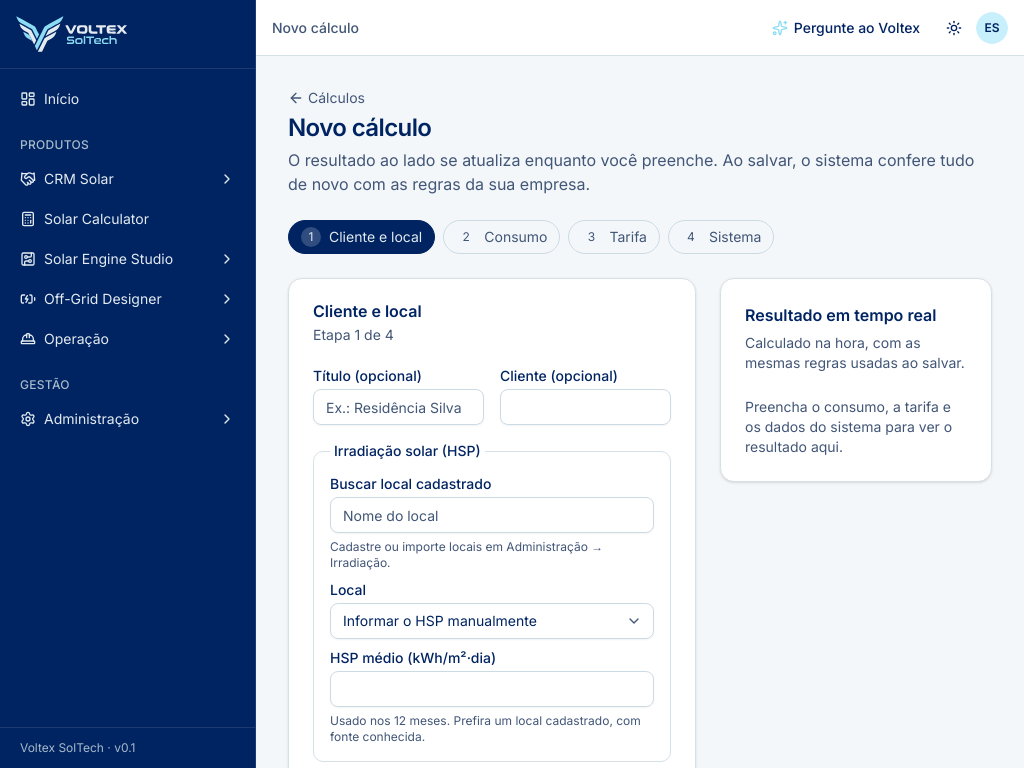
Test case: wizard de novo cálculo › o custo de disponibilidade vem da regra conforme o tipo de ligação
In the field labelled "HSP médio (kWh/m²·dia)": (492, 689) x1=330 y1=671 x2=654 y2=707, type "5"
(page scrolled)
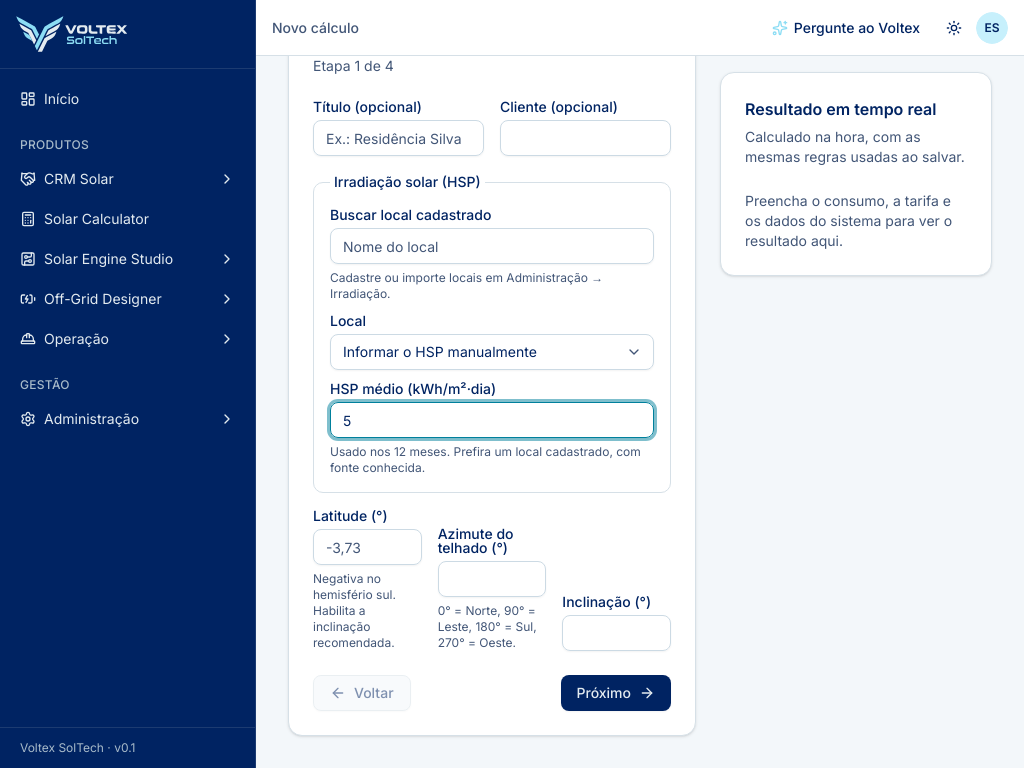
Click the button "Próximo": click(616, 693) x1=560 y1=675 x2=671 y2=711
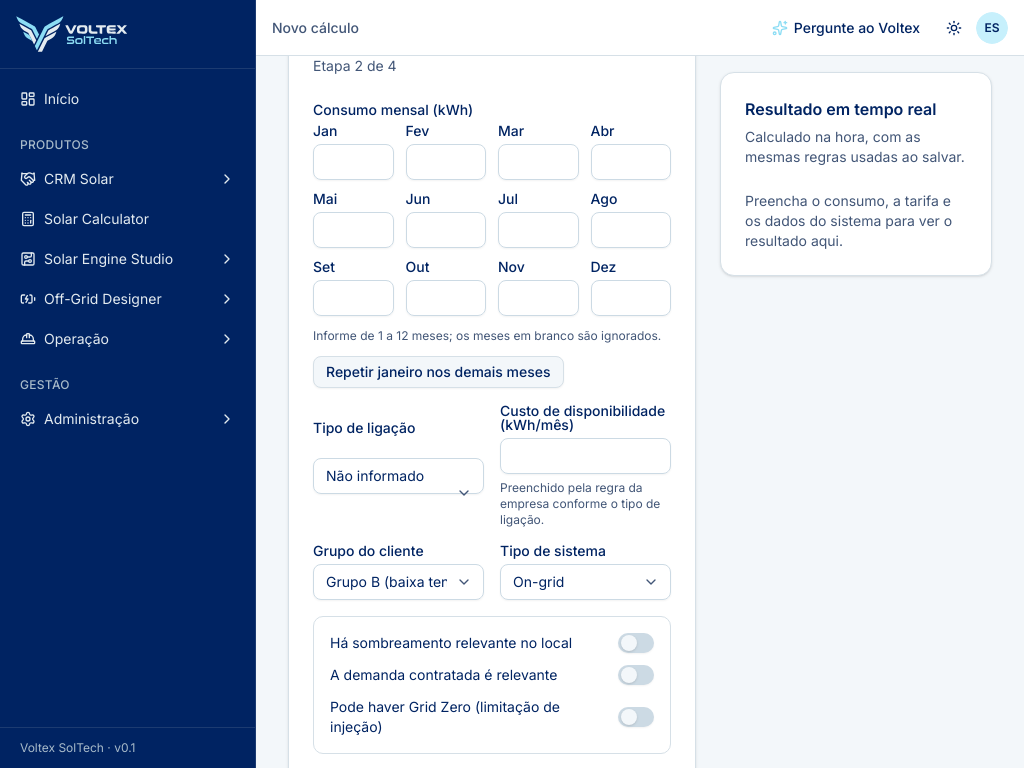
Select "Trifásico" in the dropdown labelled "Tipo de ligação": (398, 476) x1=313 y1=458 x2=484 y2=494
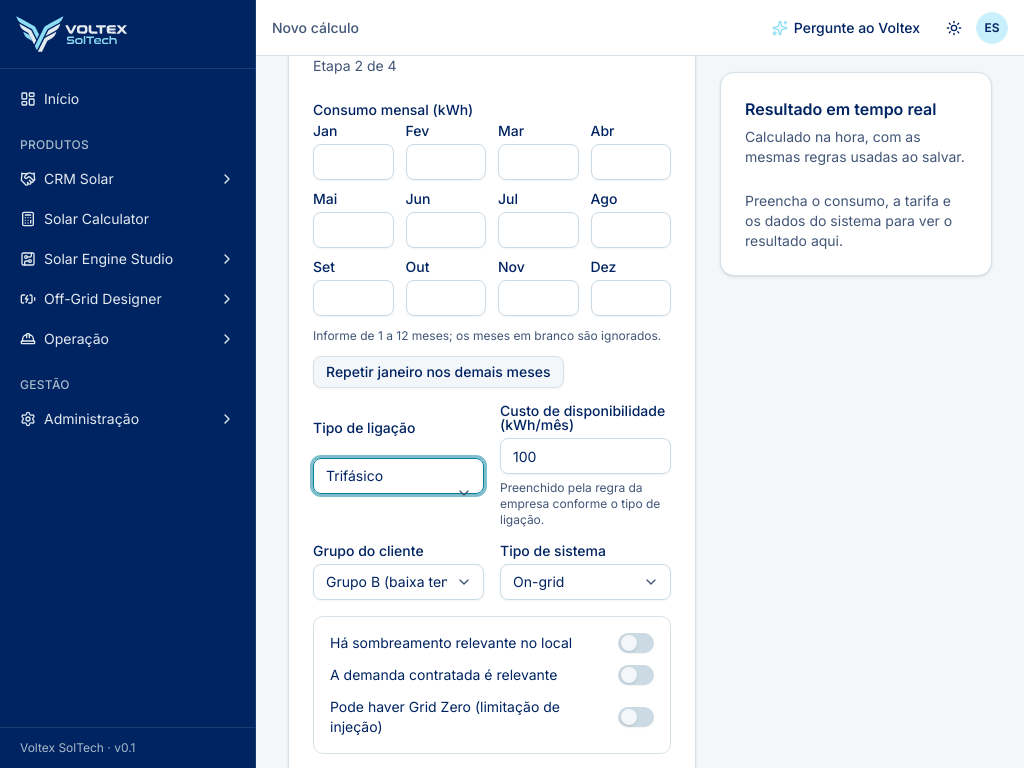
Now the field labelled "Custo de disponibilidade (kWh/mês)" holds "100", box x1=500 y1=438 x2=671 y2=474
